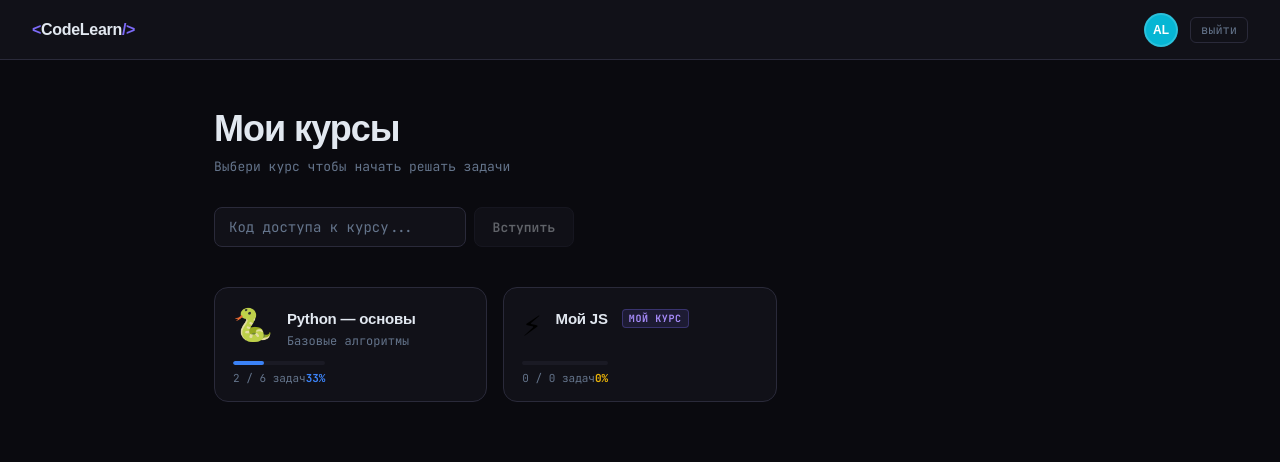
Test: вступление по коду › ошибка: показывается текст сервера, код остаётся для исправления, список не перезагружается
Expected: the text "Python — основы" is shown, [287,309,416,328]
Type "ZZZZZZZZ" into the field with placeholder "Код доступа к курсу..." at (340, 227), box [214,207,466,247]
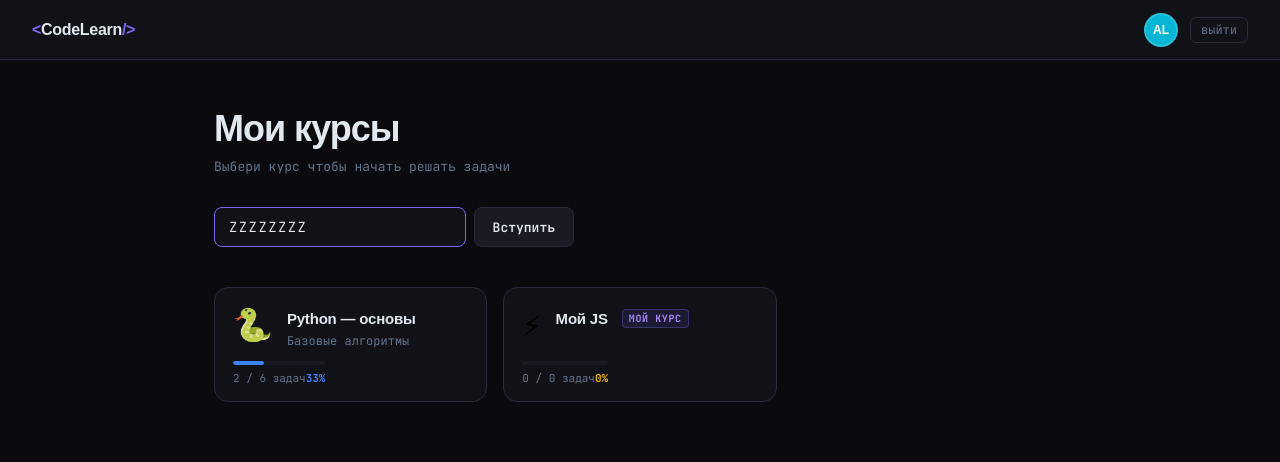
Click the button "Вступить" at (524, 227), box [474,207,574,247]
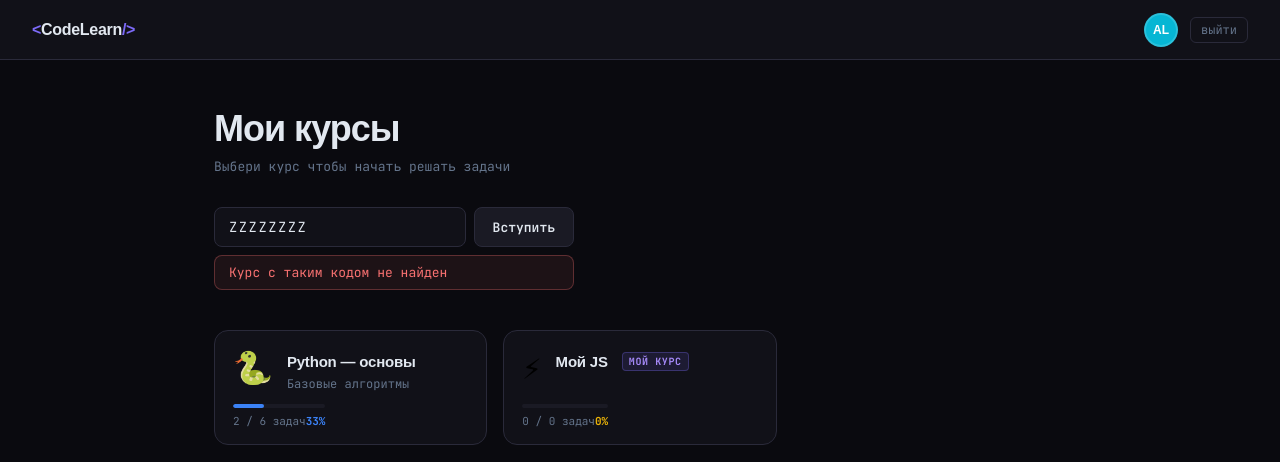
Now the text "Курс с таким кодом не найден" is shown, box [214,255,574,290]
